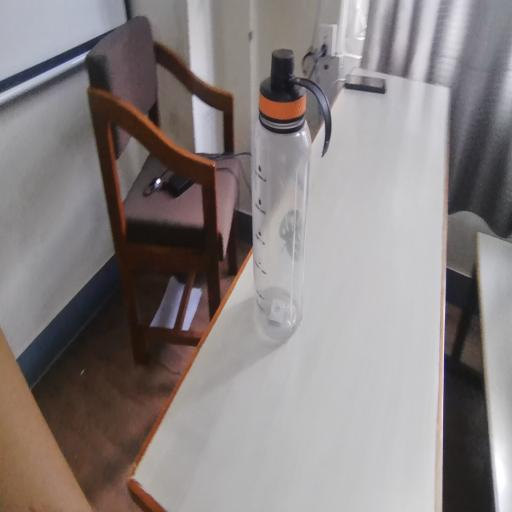Bottle: (249, 46, 312, 381)
